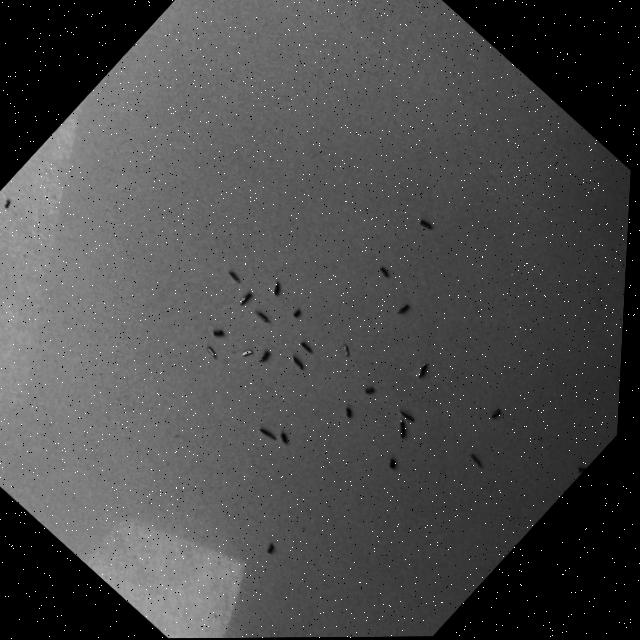Wereng: (381, 410, 420, 447), (404, 351, 443, 387), (412, 209, 450, 245), (387, 294, 422, 327), (457, 442, 491, 473), (390, 396, 424, 427), (253, 535, 286, 565), (293, 333, 324, 362), (329, 333, 360, 362), (371, 255, 399, 282), (198, 341, 227, 367), (221, 262, 249, 288), (356, 376, 384, 402), (256, 421, 284, 446), (286, 300, 312, 325), (235, 285, 260, 310), (264, 277, 290, 301), (287, 350, 313, 373), (273, 427, 297, 450), (207, 322, 231, 345), (252, 345, 276, 368), (381, 454, 404, 476), (251, 306, 274, 327), (482, 401, 505, 422), (0, 191, 20, 214), (235, 341, 256, 362), (338, 403, 360, 423), (574, 461, 590, 477)
